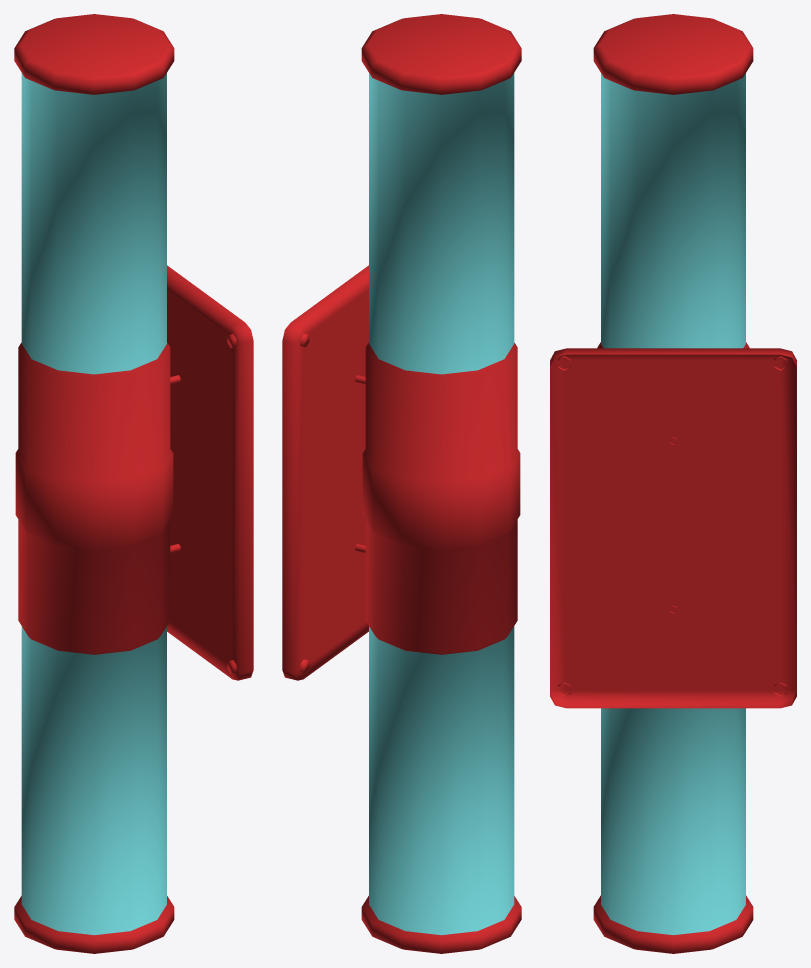
File: MOD_LAM_Wall_lamp_01.fbx
3 views of the same model, side by side, from view 1: azimuth 30°, elevation 25°; view 2: azimuth 150°, elevation 25°; view 3: azimuth 270°, elevation 25° (orthographic).
Parts seen in each view (by area): view 1: HSHP_MOD_Wall_lamp_01; view 2: HSHP_MOD_Wall_lamp_01; view 3: HSHP_MOD_Wall_lamp_01.
Boxes of the visible parts, <box> form: HSHP_MOD_Wall_lamp_01: <box>14,14,253,953</box>; HSHP_MOD_Wall_lamp_01: <box>282,14,521,953</box>; HSHP_MOD_Wall_lamp_01: <box>550,14,796,953</box>.
Size of the model in its own units: 0.1714 by 0.8624 by 0.2198.
